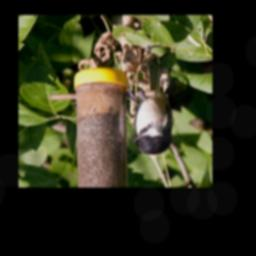Swallow: (125, 85, 174, 156)
